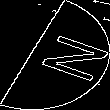N_NW: (13, 26, 97, 84)
